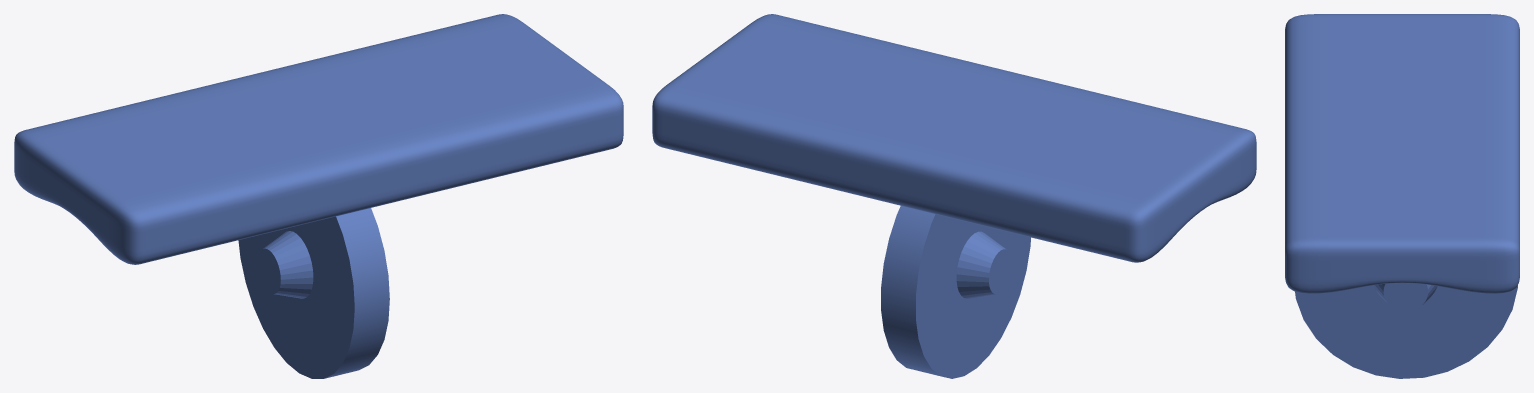
The model's file is HomeroP5.obj.
3 views of the same model, side by side, from view 1: azimuth 30°, elevation 25°; view 2: azimuth 150°, elevation 25°; view 3: azimuth 270°, elevation 25° (orthographic). The views are drawn at different scales.
Parts seen in each view (by area): view 1: Box004; view 2: Box004; view 3: Box004.
Part boxes in pixels (box(x1,y1,x2,y2)): Box004: box(14, 14, 623, 378); Box004: box(652, 14, 1256, 378); Box004: box(1285, 14, 1519, 378).
Bounding box in the file's own units: 5.36 × 2.62 × 2.27.
Materials: 1 (1 with a texture image).
